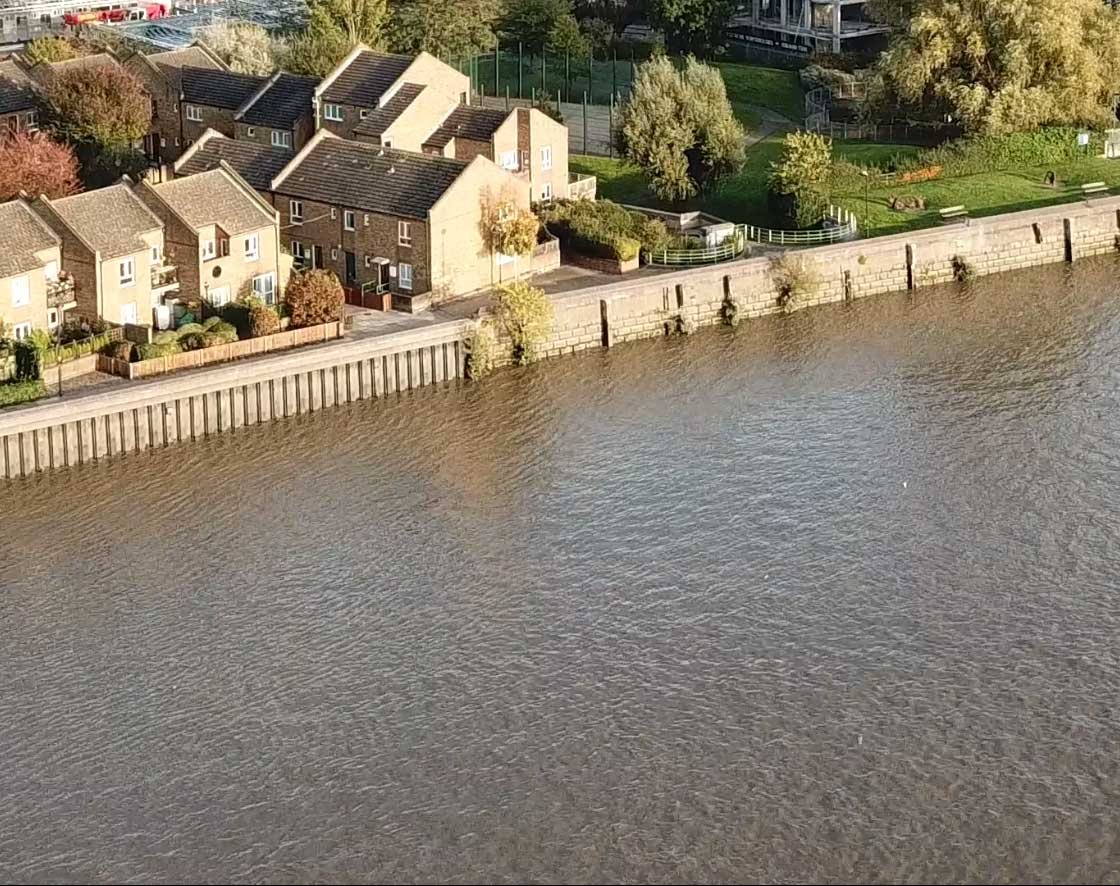building: (188, 132, 529, 290), (132, 166, 299, 323)
water: (372, 445, 1003, 807)
